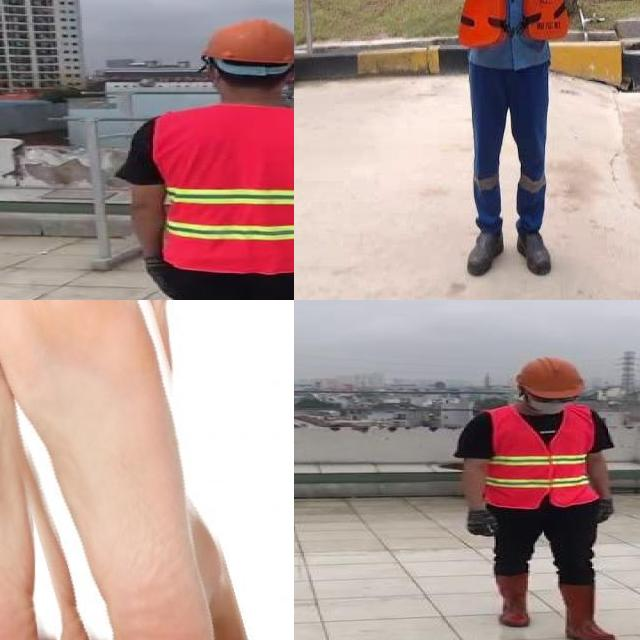Barefoots: (0, 300, 229, 640)
boots: (560, 582, 618, 640), (463, 223, 510, 282), (491, 569, 535, 628), (515, 225, 557, 282)
face_mask: (521, 390, 579, 415)
glasses: (528, 392, 580, 407)
hand_glove: (142, 258, 176, 298), (464, 509, 498, 536), (596, 500, 615, 527)
head_helmet: (194, 16, 294, 68), (512, 354, 590, 400)
person: (331, 0, 640, 286), (451, 352, 640, 640), (110, 17, 294, 300)
vest: (153, 106, 294, 274), (480, 406, 599, 506), (458, 0, 570, 46)
